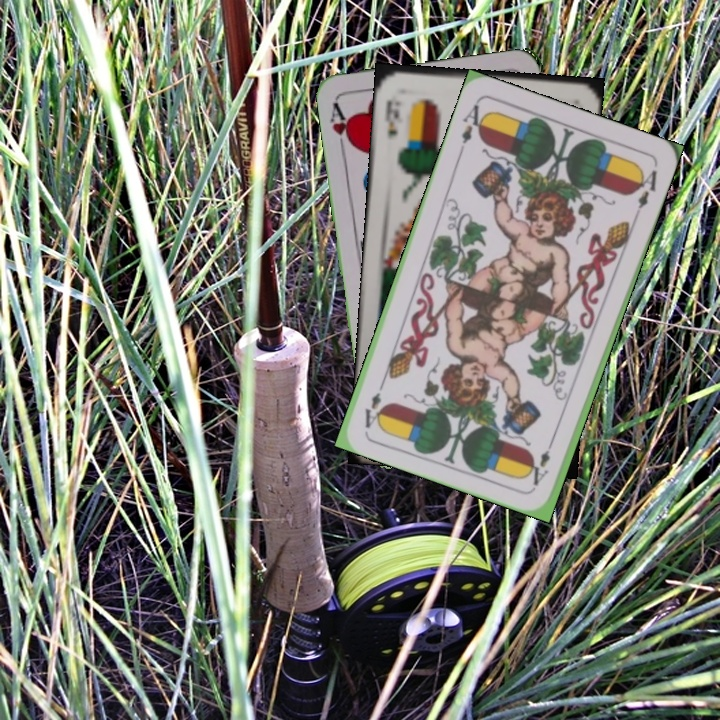EA: (455, 98, 489, 156), (529, 433, 557, 488)
EK: (380, 96, 402, 141)
HA: (326, 98, 357, 157)
